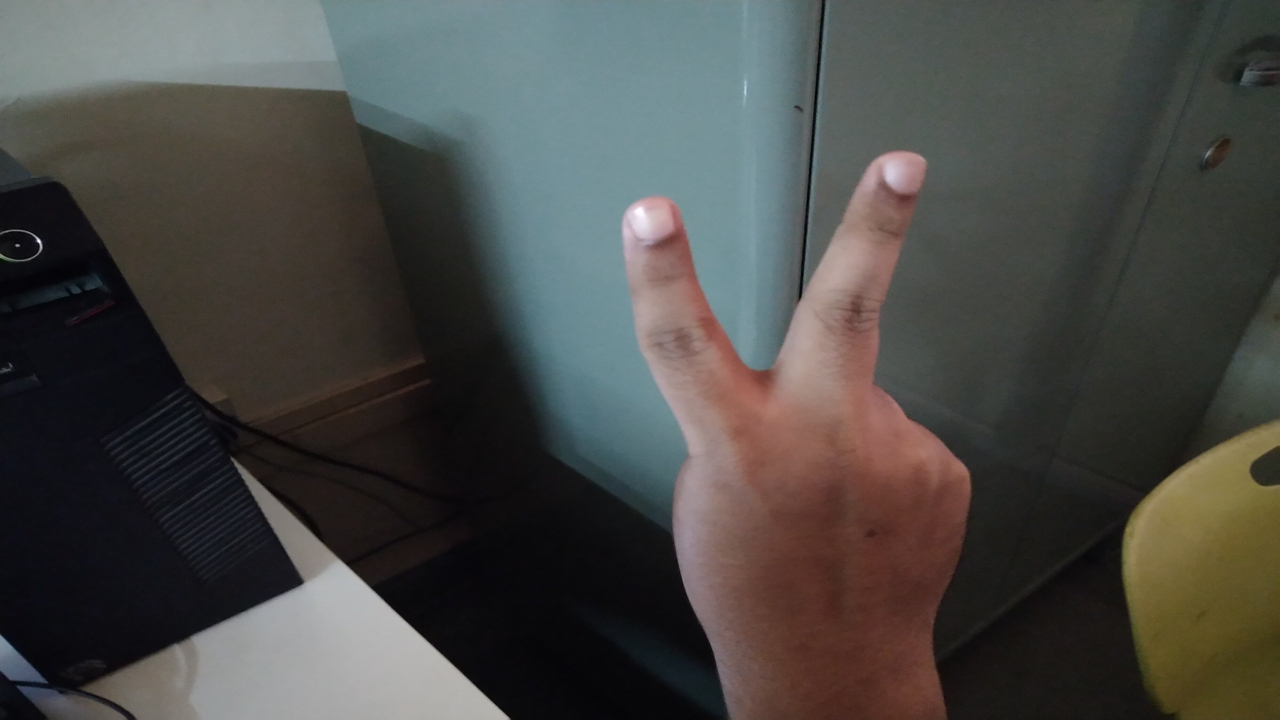fingertip: (614, 190, 690, 256), (862, 146, 940, 208)
